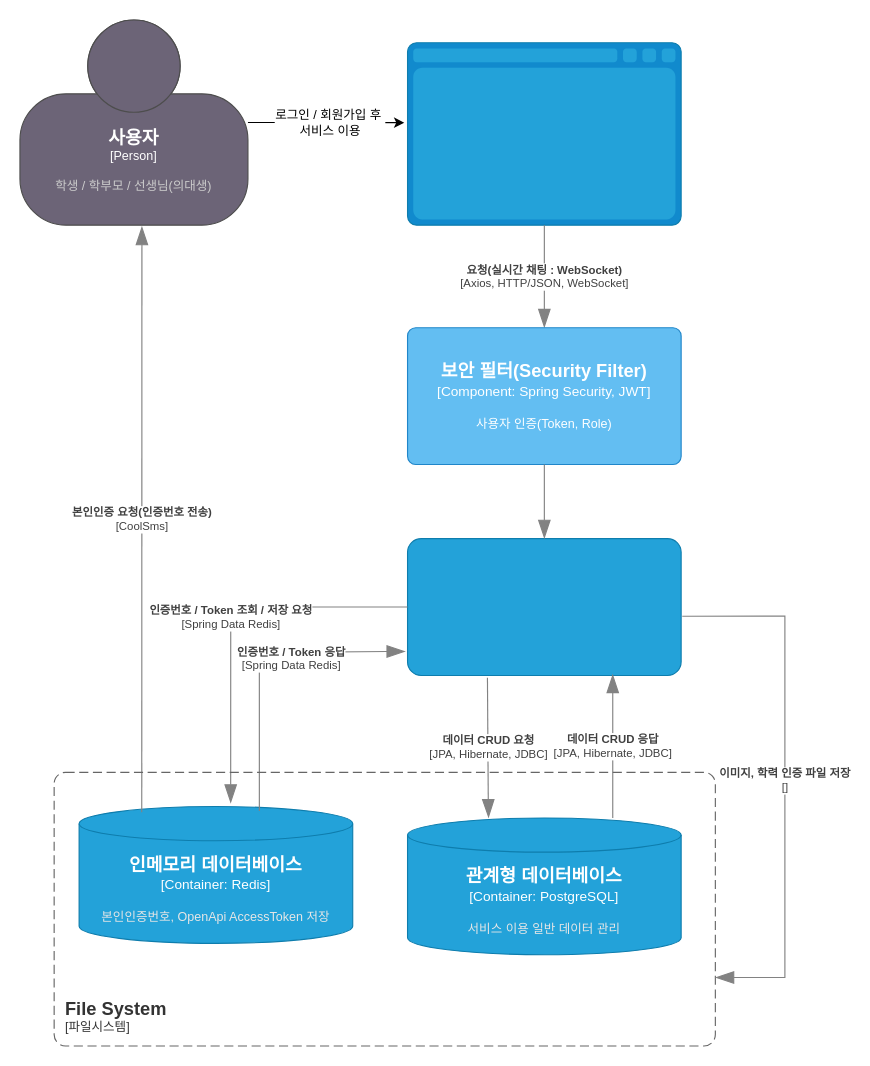
Image size: 870x1066. Some labels were removed from this diagram. The shapes that lost their labels are listed below. From the top down, each one's box as (x1, y1, x2, y2) in pixels, then its label:
(406, 42, 681, 225): 프론트엔드 서버 [Container: React.js] 사용자 화면
(406, 538, 681, 675): Application [Container: Spring Boot(언어 : Java21)] 비즈니스 로직 실행
